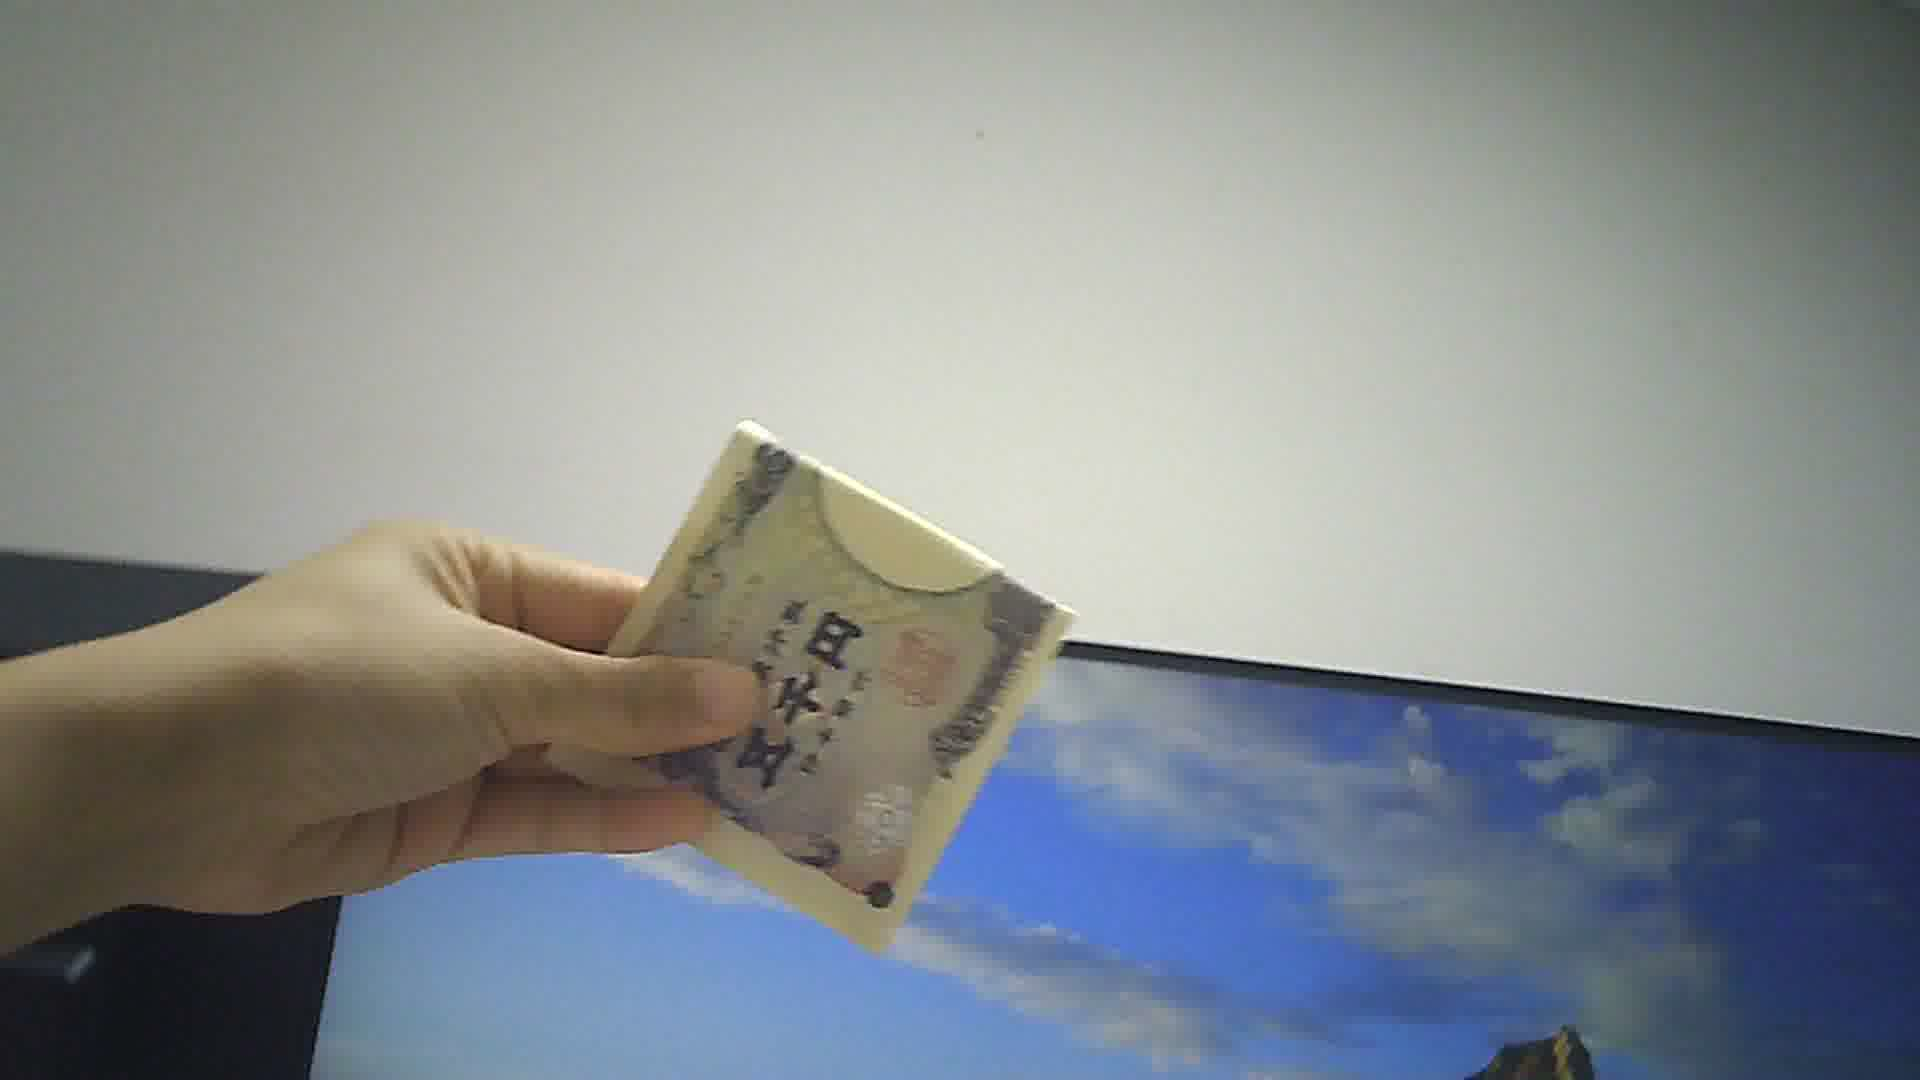5,000 Yen: (547, 410, 1067, 939)
